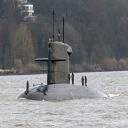submarine: (18, 9, 114, 101)
